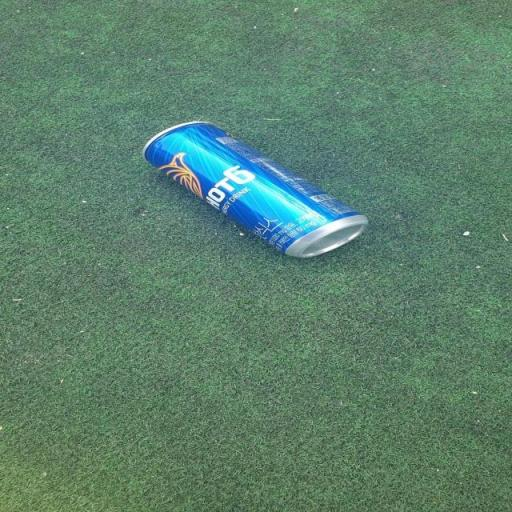metal: (134, 102, 378, 286)
